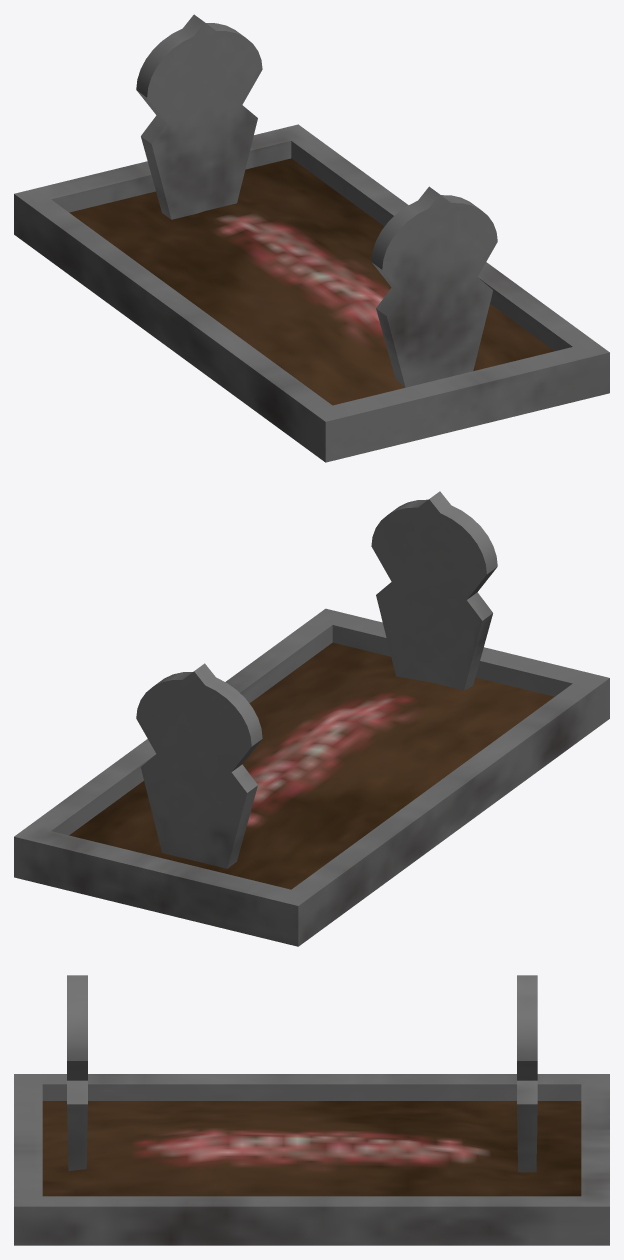
File: Kuburan3.fbx
3 renders of one model, top to bottom at view 1: azimuth 30°, elevation 25°; view 2: azimuth 150°, elevation 25°; view 3: azimuth 270°, elevation 25°, orthographic. The views are drawn at different scales.
Visible parts, largest first — view 1: Tomb.002; view 2: Tomb.002; view 3: Tomb.002.
Boxes of the visible parts, x1,y1,x2,y2 form: Tomb.002: [14, 14, 609, 462]; Tomb.002: [14, 491, 609, 946]; Tomb.002: [14, 975, 609, 1245].
Size of the model in its own units: 355 by 254 by 674.
